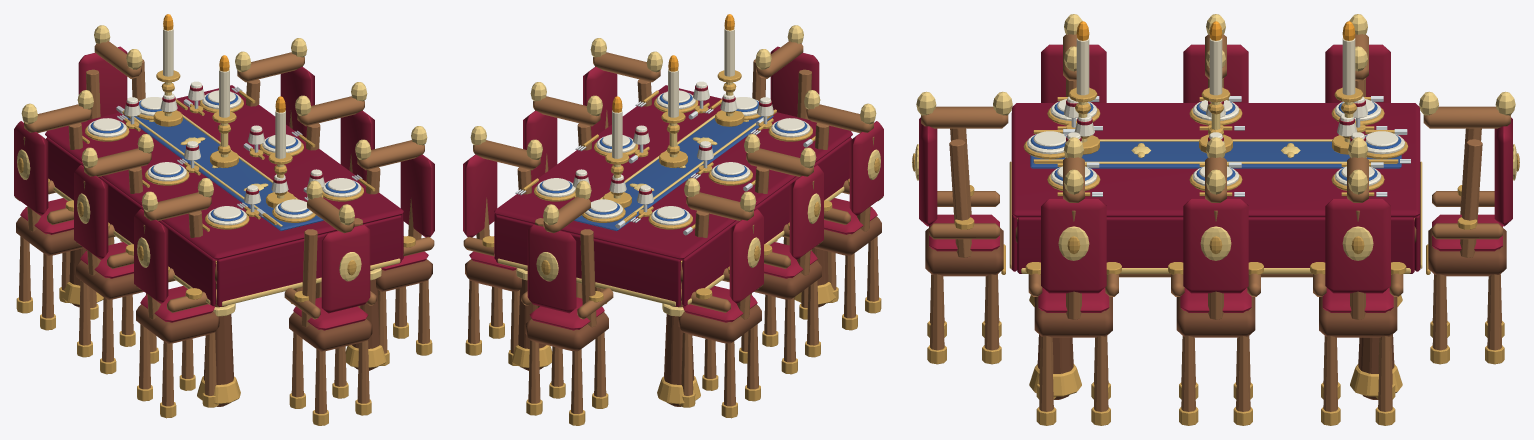
Rendered from mesa_banquete_luxo.glb.
The picture shows the model from 3 angles, left to right: view 1: azimuth 30°, elevation 25°; view 2: azimuth 150°, elevation 25°; view 3: azimuth 270°, elevation 25°; orthographic projection. The views are drawn at different scales.
Parts seen in each view (by area): view 1: Mesa | tampo de nogueira; view 2: Mesa | tampo de nogueira; view 3: Mesa | tampo de nogueira.
Boxes of the visible parts, x1=… form: Mesa | tampo de nogueira: x1=14, y1=14, x2=434, y2=425; Mesa | tampo de nogueira: x1=463, y1=14, x2=883, y2=425; Mesa | tampo de nogueira: x1=912, y1=14, x2=1519, y2=425.
Size of the model in its own units: 2.18 by 2.03 by 3.34.
